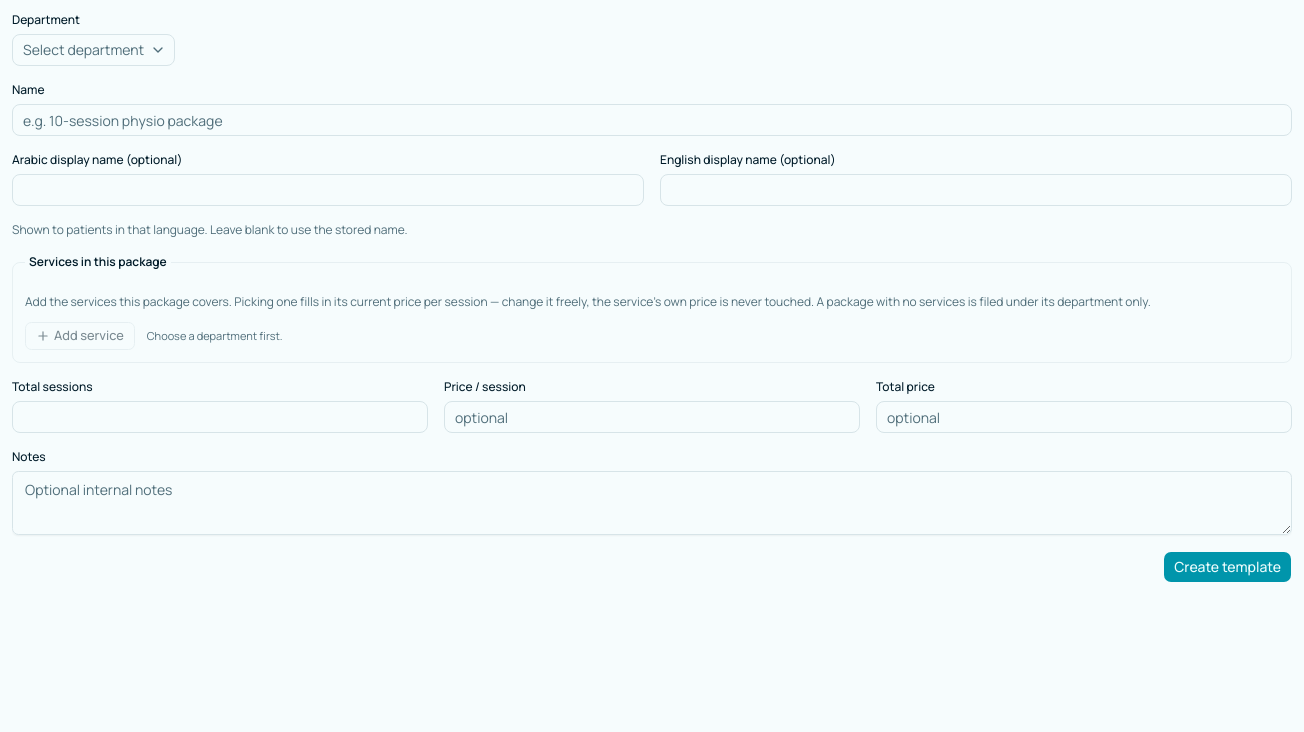
Test: adding lines is gated on a department, because a service belongs to one › offers only the chosen department's services on a line
The image size is (1304, 732).
Click the dropdown labelled "Select department" at coordinates (94, 50), box [12,34,175,66]
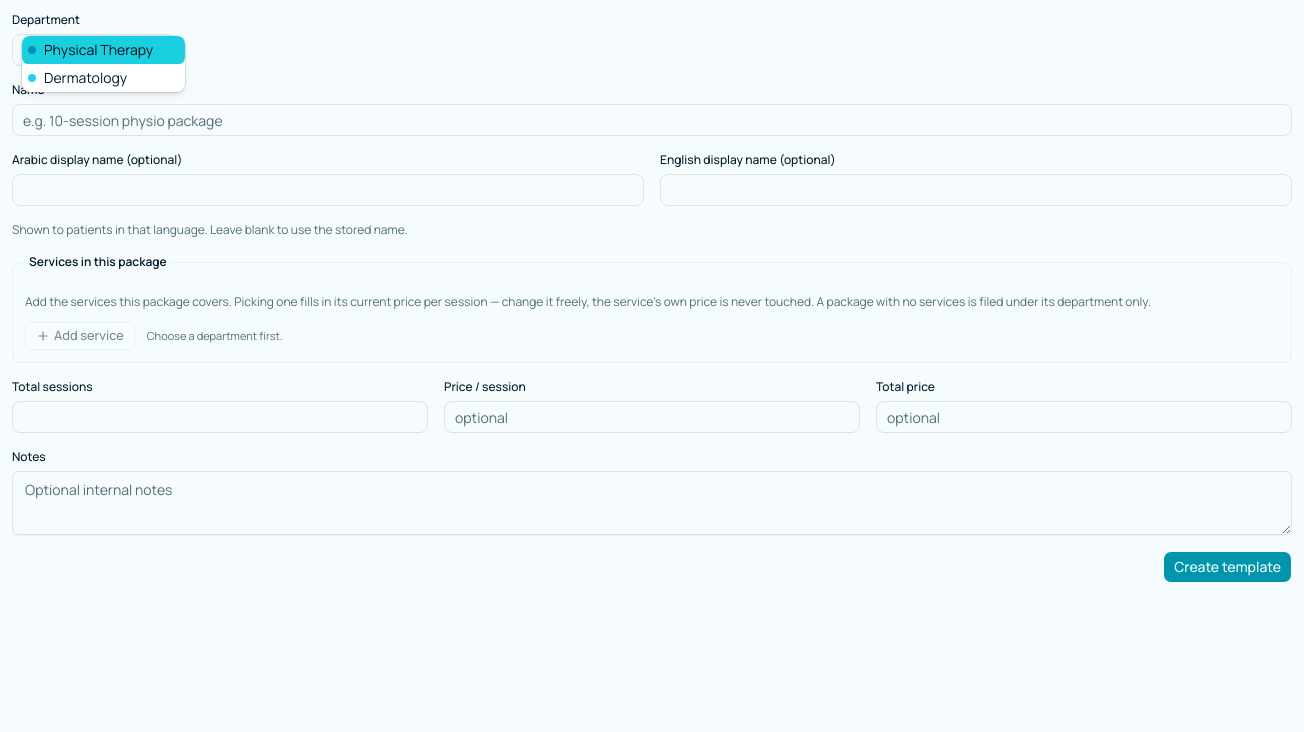
Click the option "Physical Therapy" at coordinates (104, 50), box [22,36,185,64]
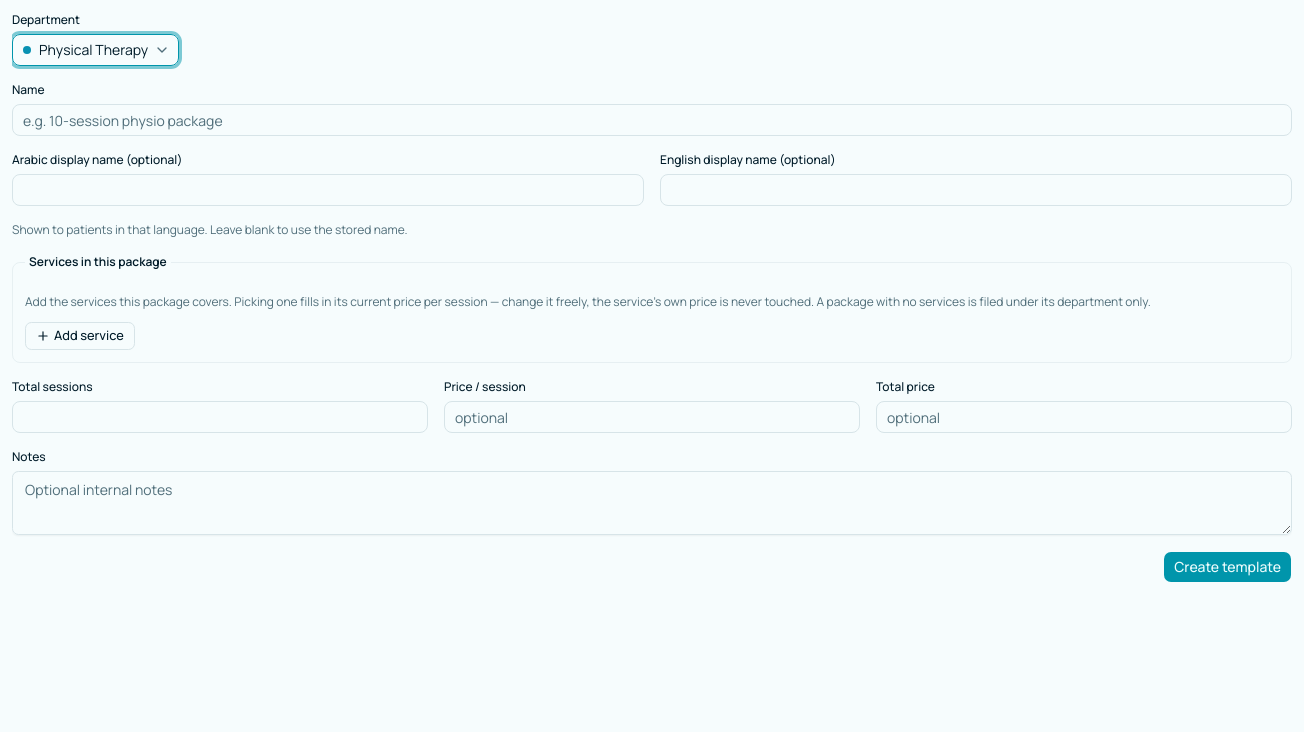
Click the button "Add service" at coordinates (80, 336), box [25,322,135,350]
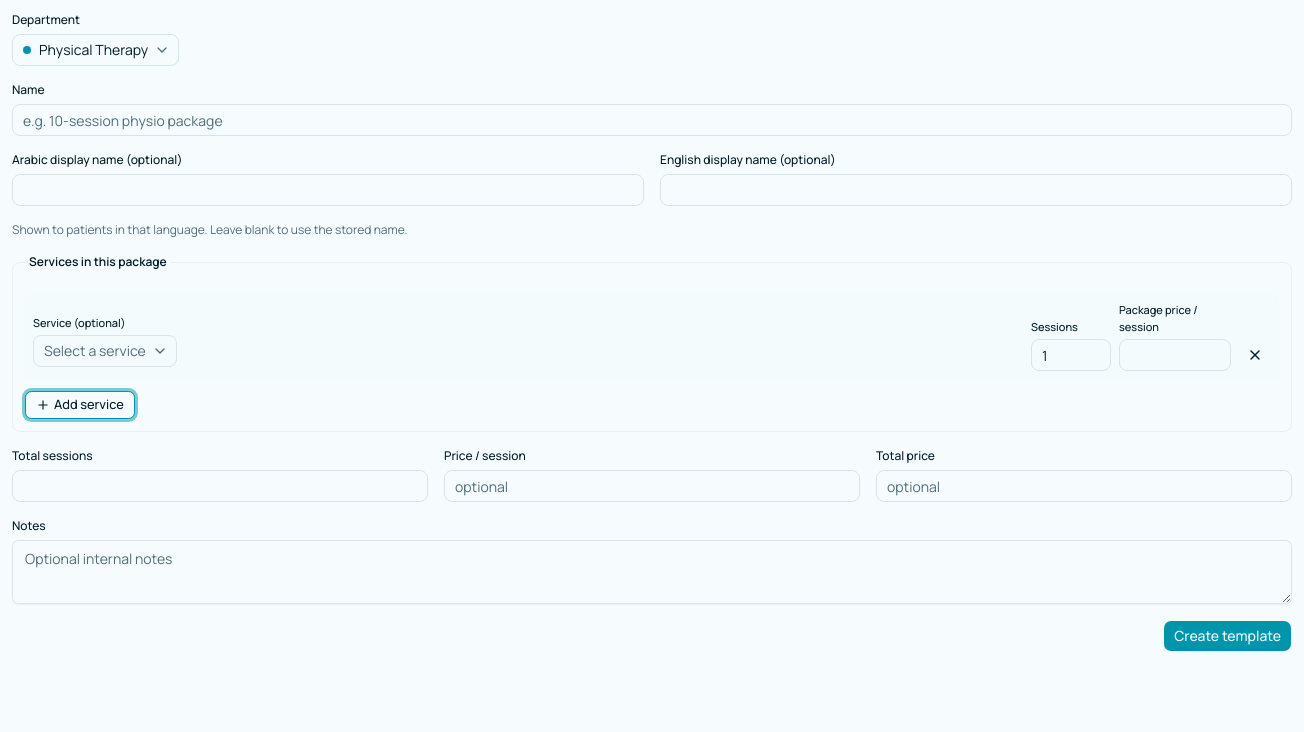
Click the dropdown named "Service (optional)" at coordinates (105, 351), box [33,335,177,367]
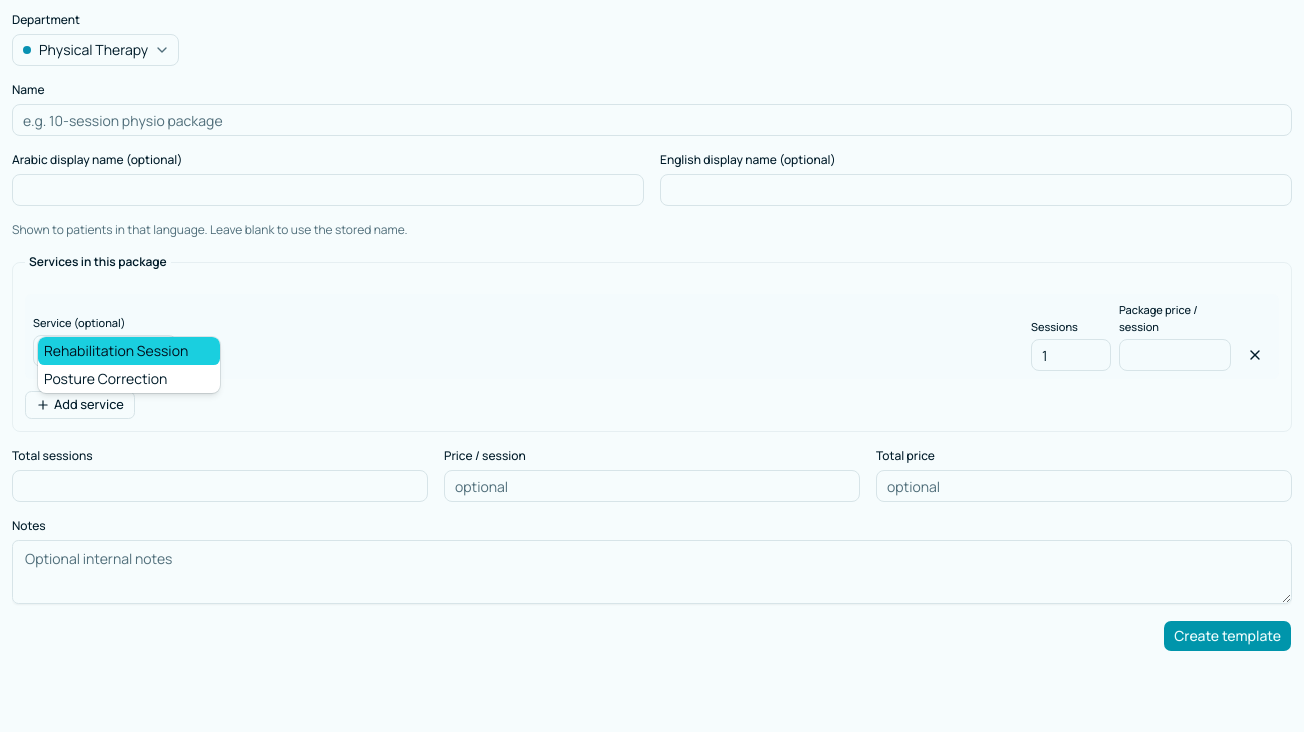
Result: the text "Rehabilitation Session" is shown at [44,341,188,361]
Result: the text "Posture Correction" is shown at [44,369,167,389]
